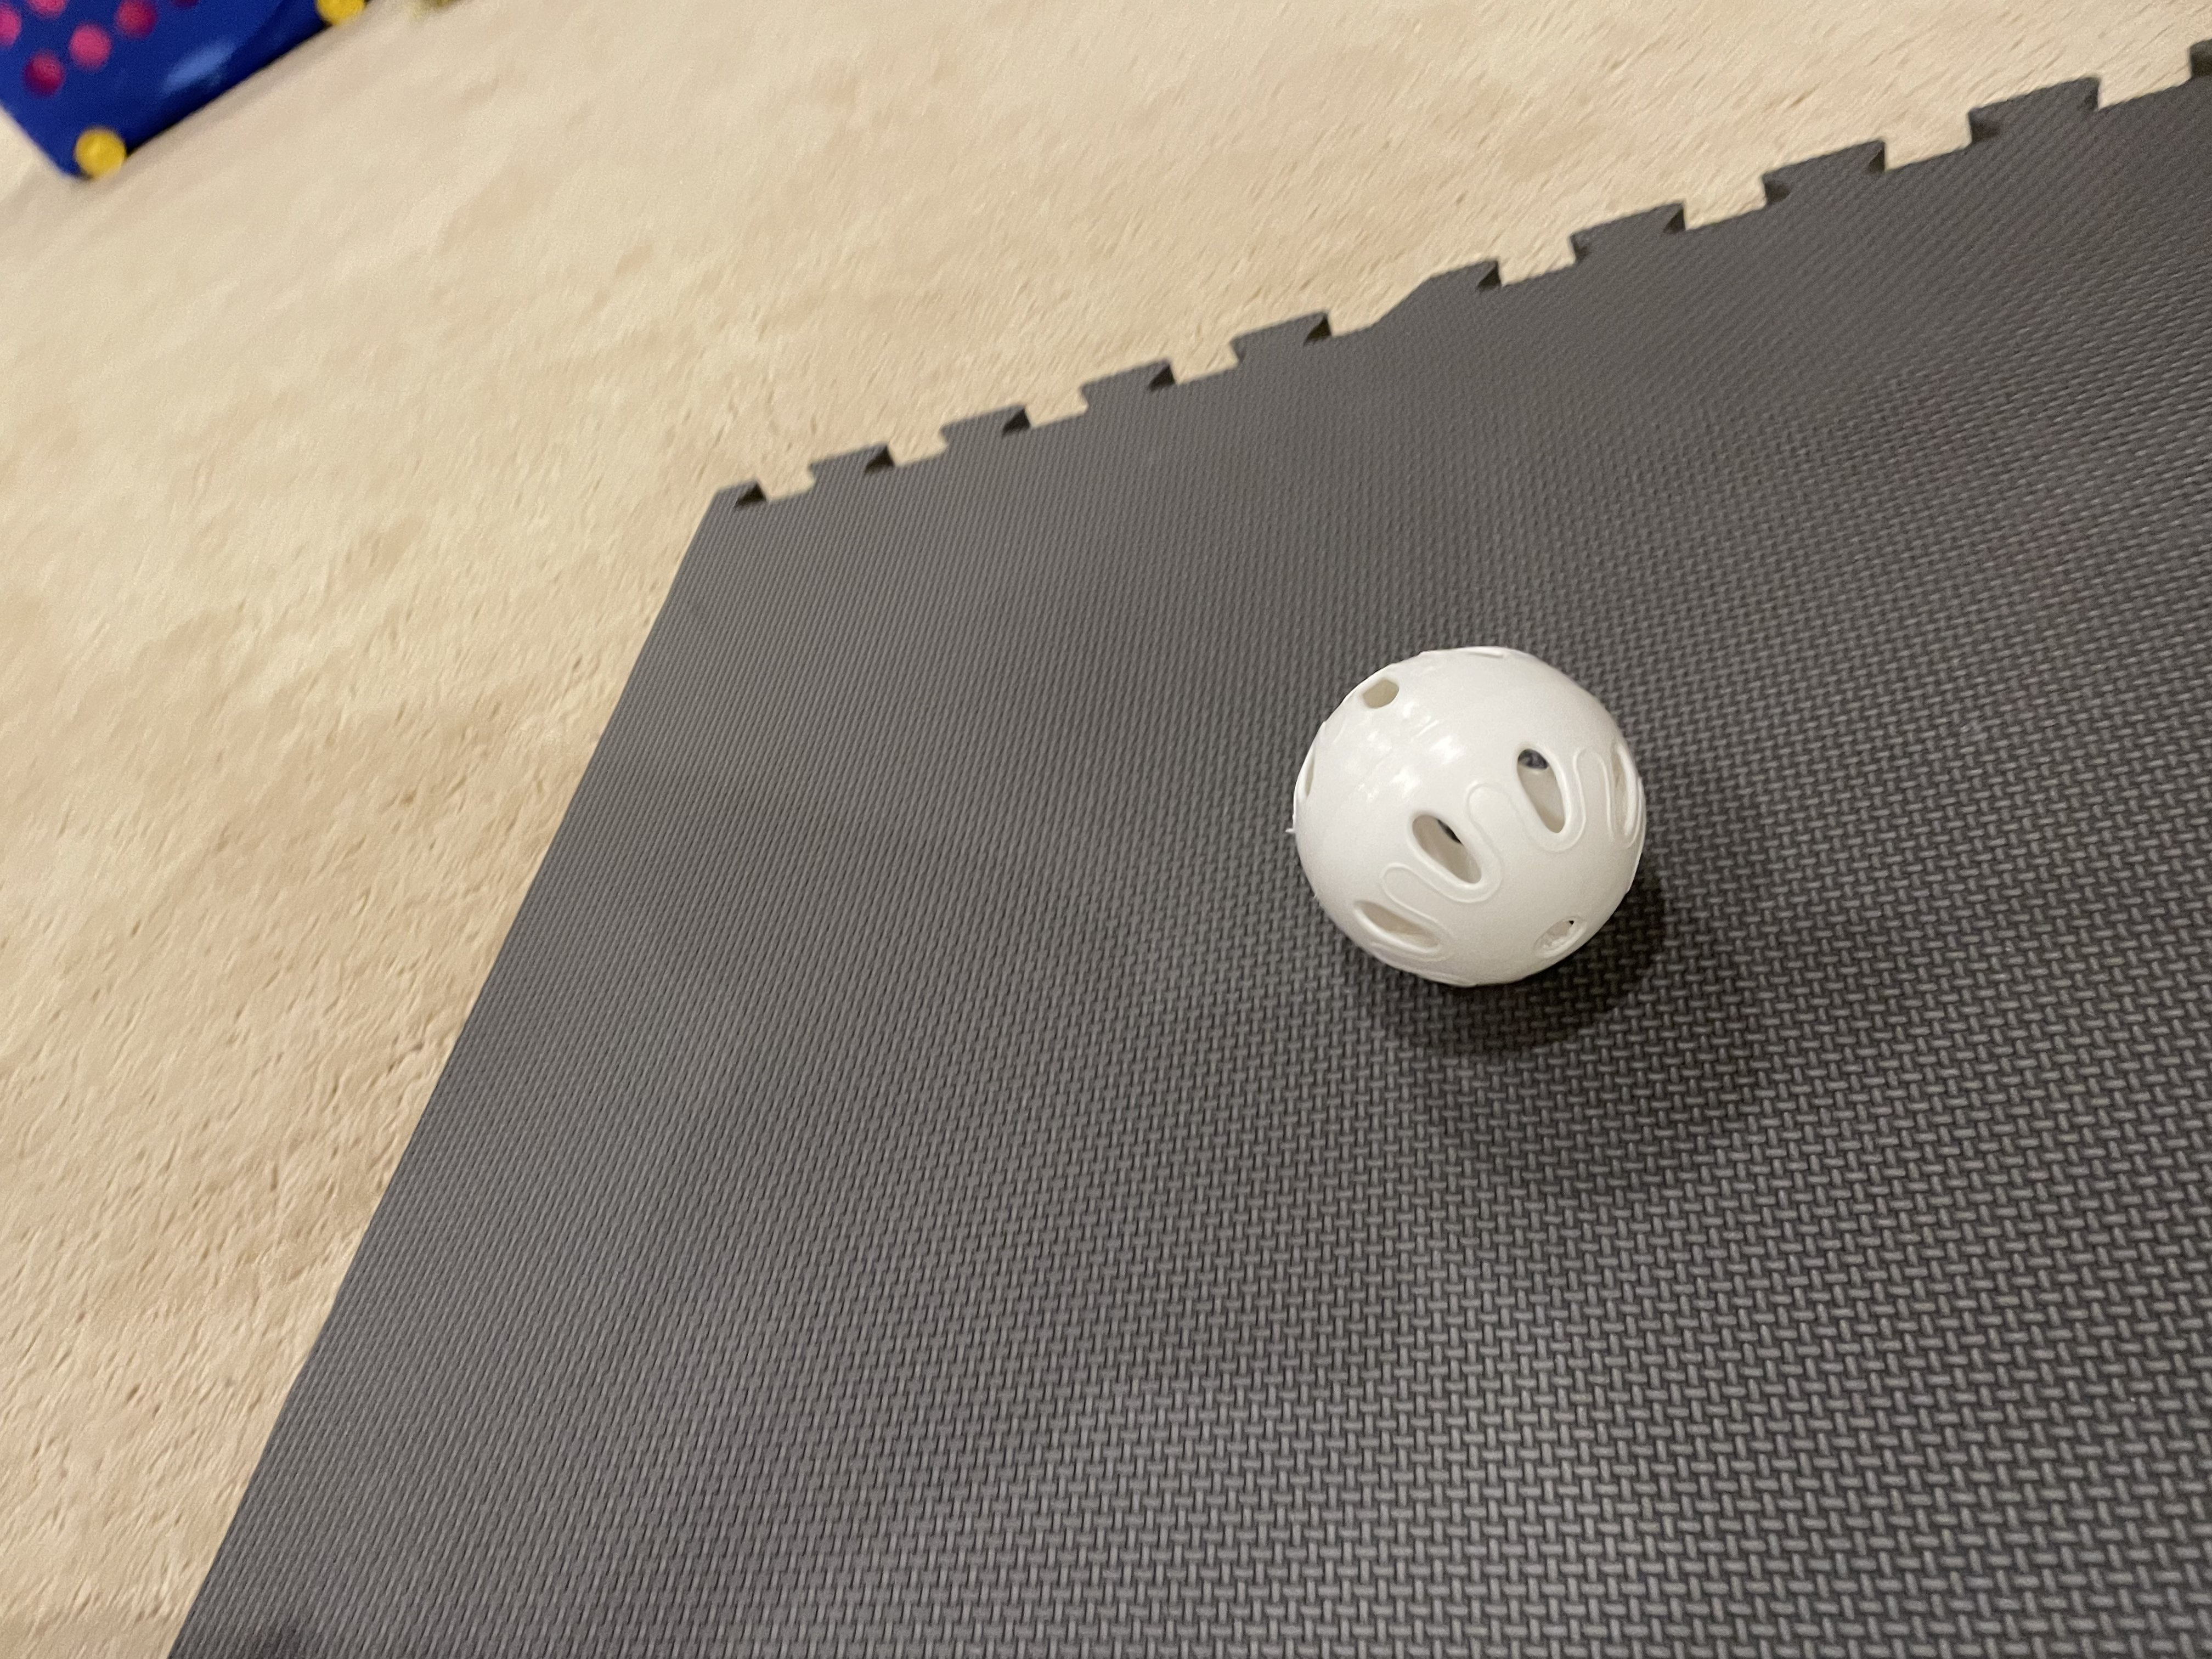ball: (1251, 606, 1676, 1030)
